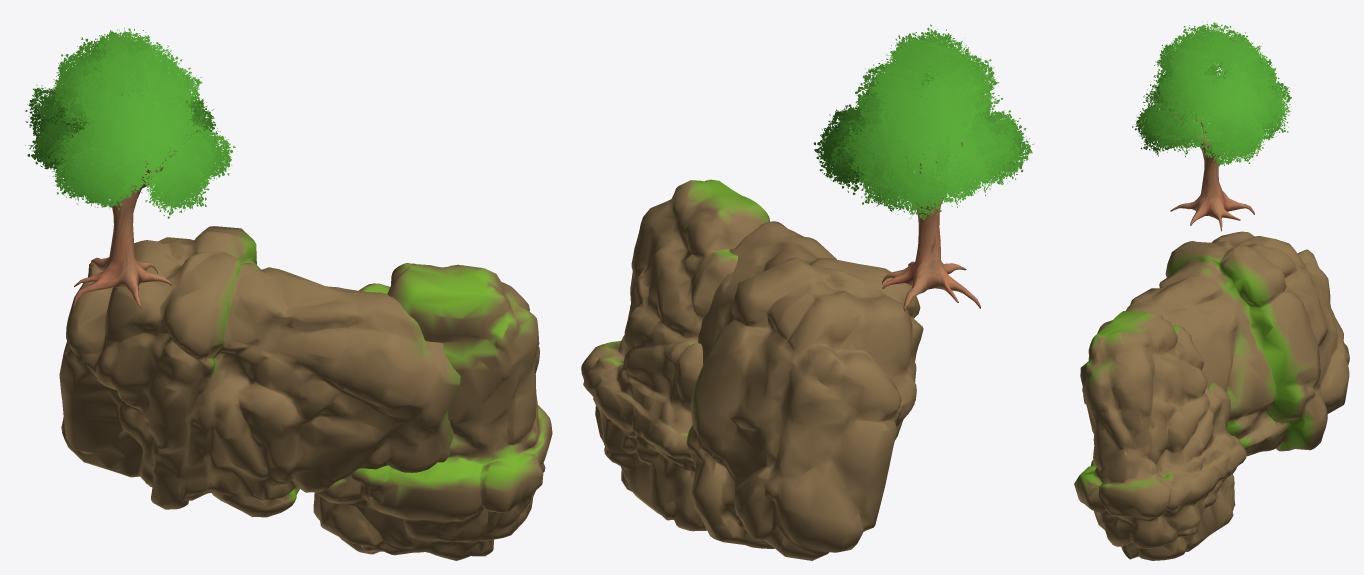
Rendered from cell_x0_z-1_render.gltf.
The picture shows the model from 3 angles, left to right: view 1: azimuth 30°, elevation 25°; view 2: azimuth 150°, elevation 25°; view 3: azimuth 270°, elevation 25°; orthographic projection. The views are drawn at different scales.
Visible parts, largest first — view 1: SM_ENV_cliff_castle_02_LOD0.035, SM_ENV_cliff_castle_02_LOD0.040, SM_ENV_tree_castle_01_LOD0.024; view 2: SM_ENV_cliff_castle_02_LOD0.035, SM_ENV_cliff_castle_02_LOD0.040, SM_ENV_tree_castle_01_LOD0.024; view 3: SM_ENV_cliff_castle_02_LOD0.040, SM_ENV_cliff_castle_02_LOD0.035, SM_ENV_tree_castle_01_LOD0.024.
Part boxes in pixels (bbox=[...]): SM_ENV_cliff_castle_02_LOD0.035: bbox=[59, 226, 460, 517]; SM_ENV_cliff_castle_02_LOD0.040: bbox=[313, 263, 552, 560]; SM_ENV_tree_castle_01_LOD0.024: bbox=[25, 27, 235, 308]; SM_ENV_cliff_castle_02_LOD0.035: bbox=[686, 221, 923, 560]; SM_ENV_cliff_castle_02_LOD0.040: bbox=[581, 179, 769, 531]; SM_ENV_tree_castle_01_LOD0.024: bbox=[813, 24, 1034, 311]; SM_ENV_cliff_castle_02_LOD0.040: bbox=[1074, 310, 1246, 560]; SM_ENV_cliff_castle_02_LOD0.035: bbox=[1097, 231, 1349, 456]; SM_ENV_tree_castle_01_LOD0.024: bbox=[1132, 21, 1291, 231].
Bounding box in the file's own units: 34.32 × 39.27 × 22.84.
3 materials, 2 textured.
